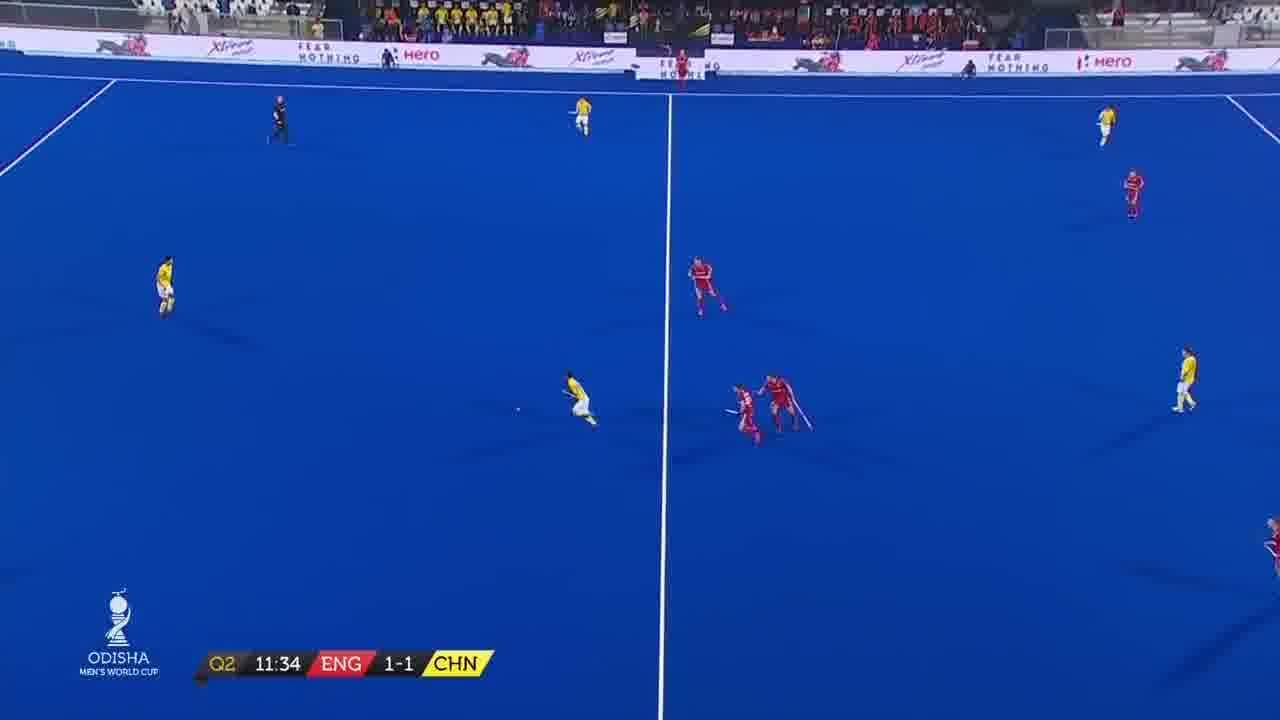ball: (516, 404, 522, 415)
